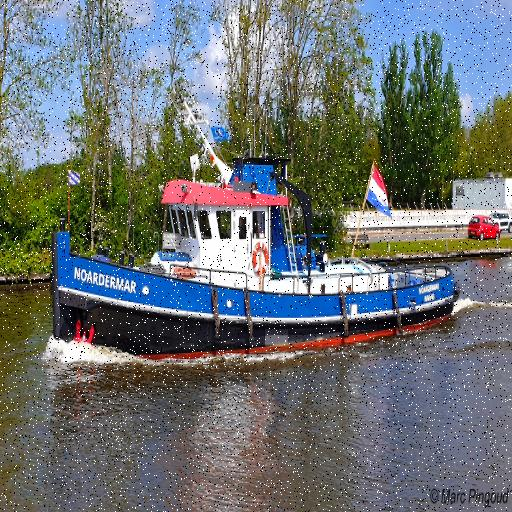tugboat: (48, 148, 464, 378)
